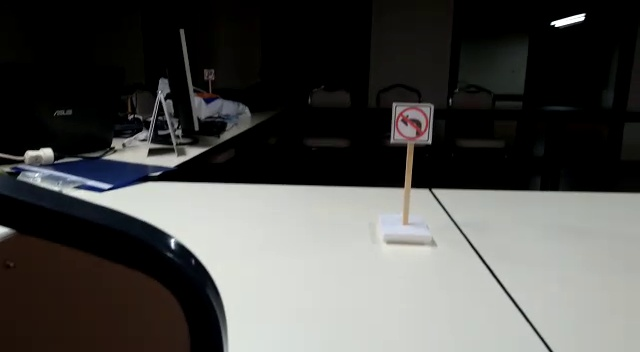sola_donulmez: (393, 105, 432, 139)
